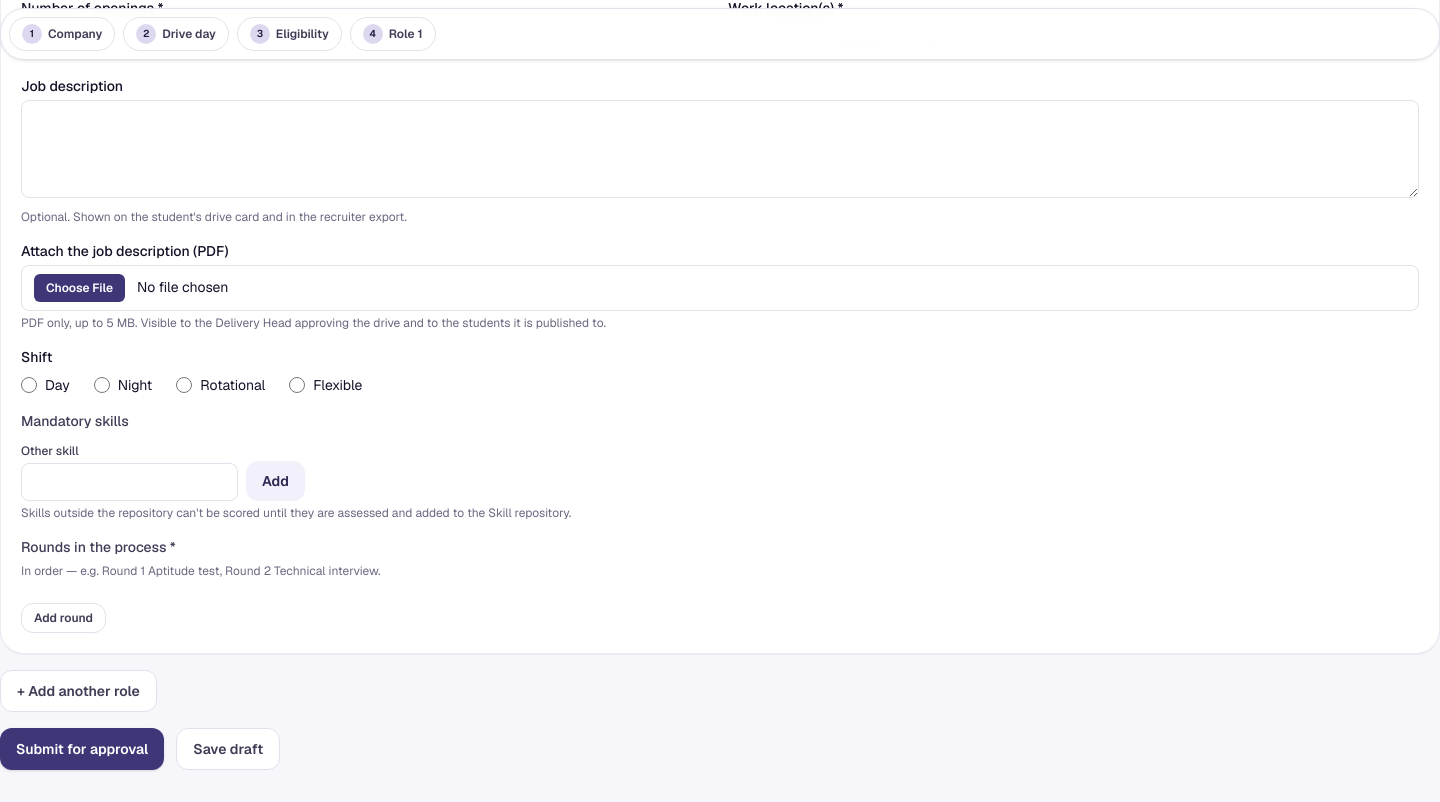
Test case: PifForm › will not save a draft with no company name at all
The width and height of the screenshot is (1440, 802).
(page scrolled)
Click the button "Save draft". click: (228, 749)
box: [176,728,280,770]
(page scrolled)
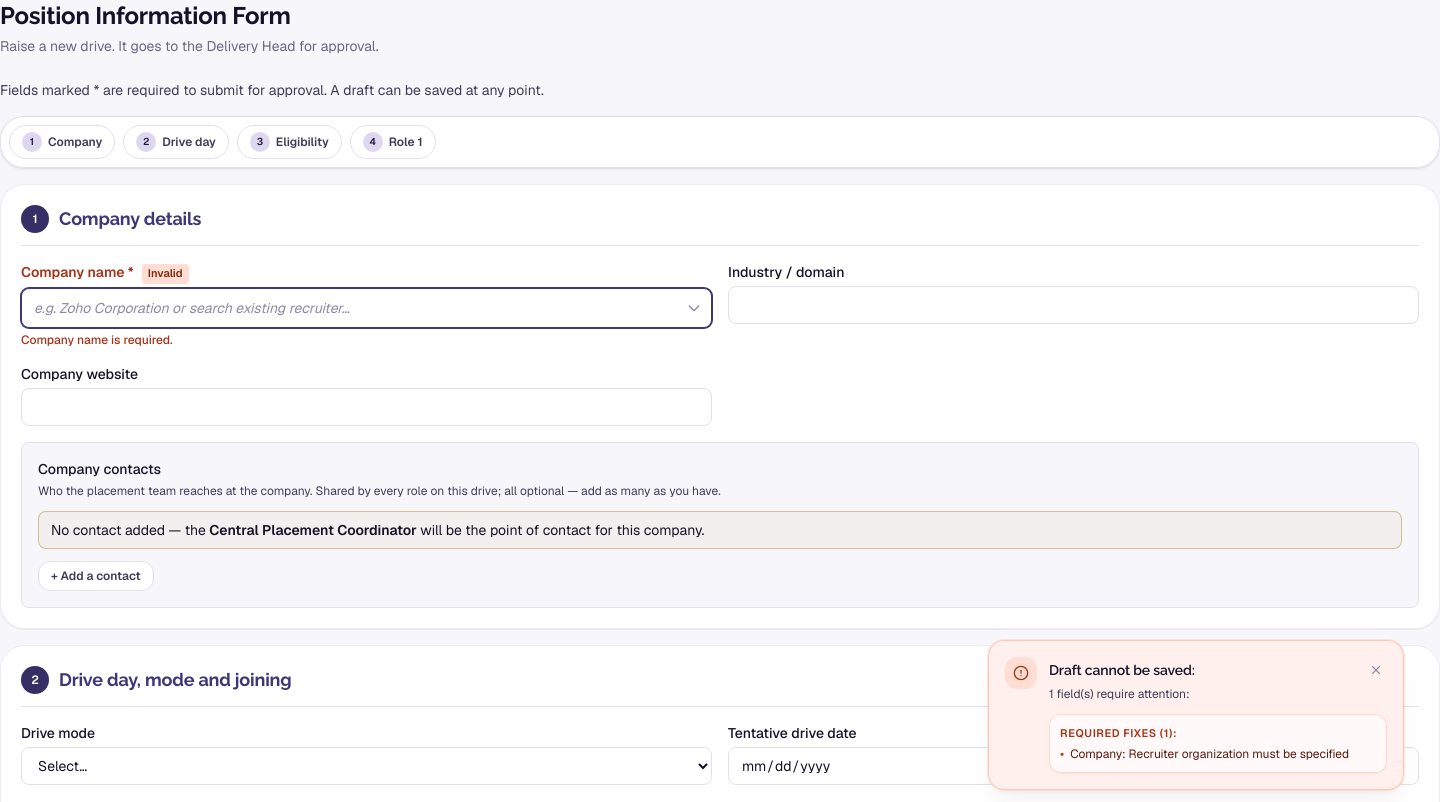
Result: the text "Company name is required." is shown at [21,332,173,348]
